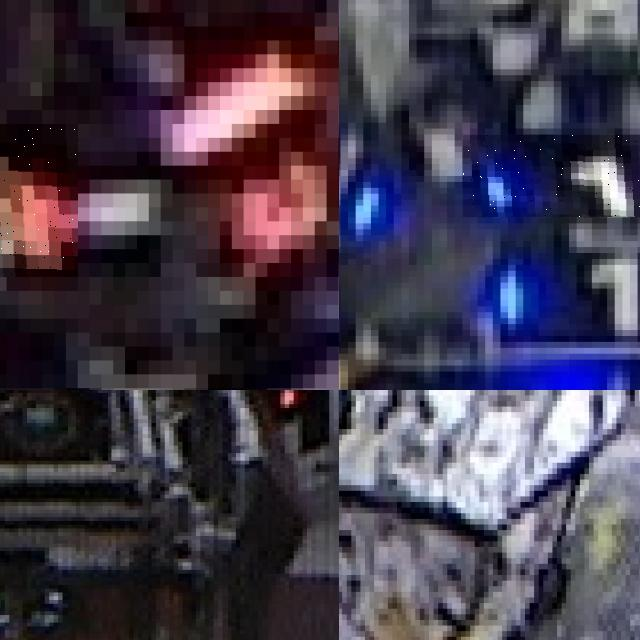B1: (462, 134, 640, 217), (481, 247, 640, 336), (339, 101, 401, 232)
R4: (0, 124, 78, 277)
